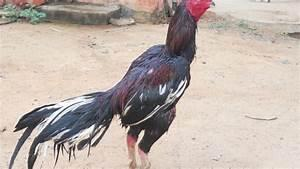hen: (7, 0, 214, 168)
